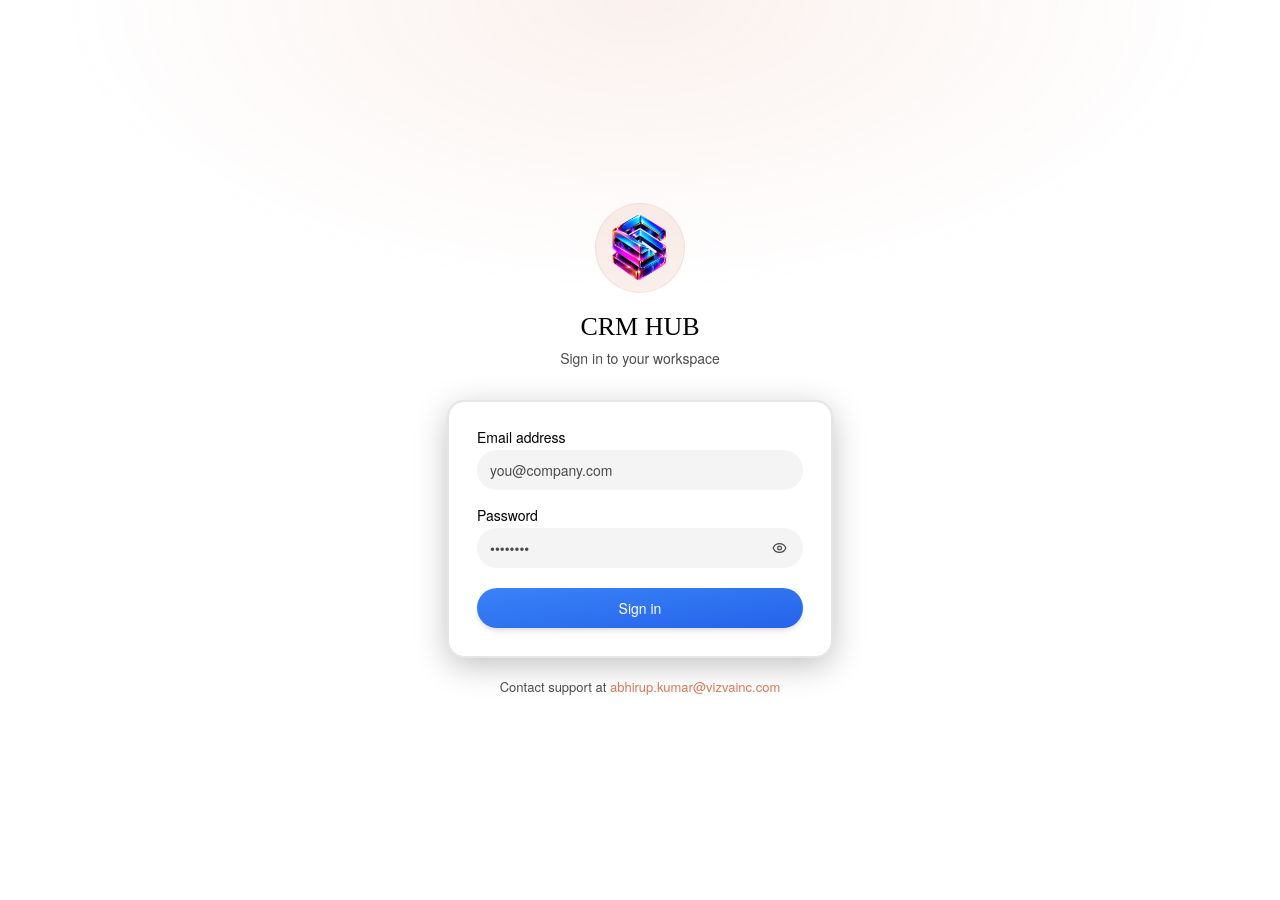
Test: LoginPage - Task 2.5: Login Flow with Session Management › Loading States › should show loading state during login
Type "test@example.com" into the field labelled "Email address".
click(640, 470); type("test@example.com")  # box [477,450,803,490]
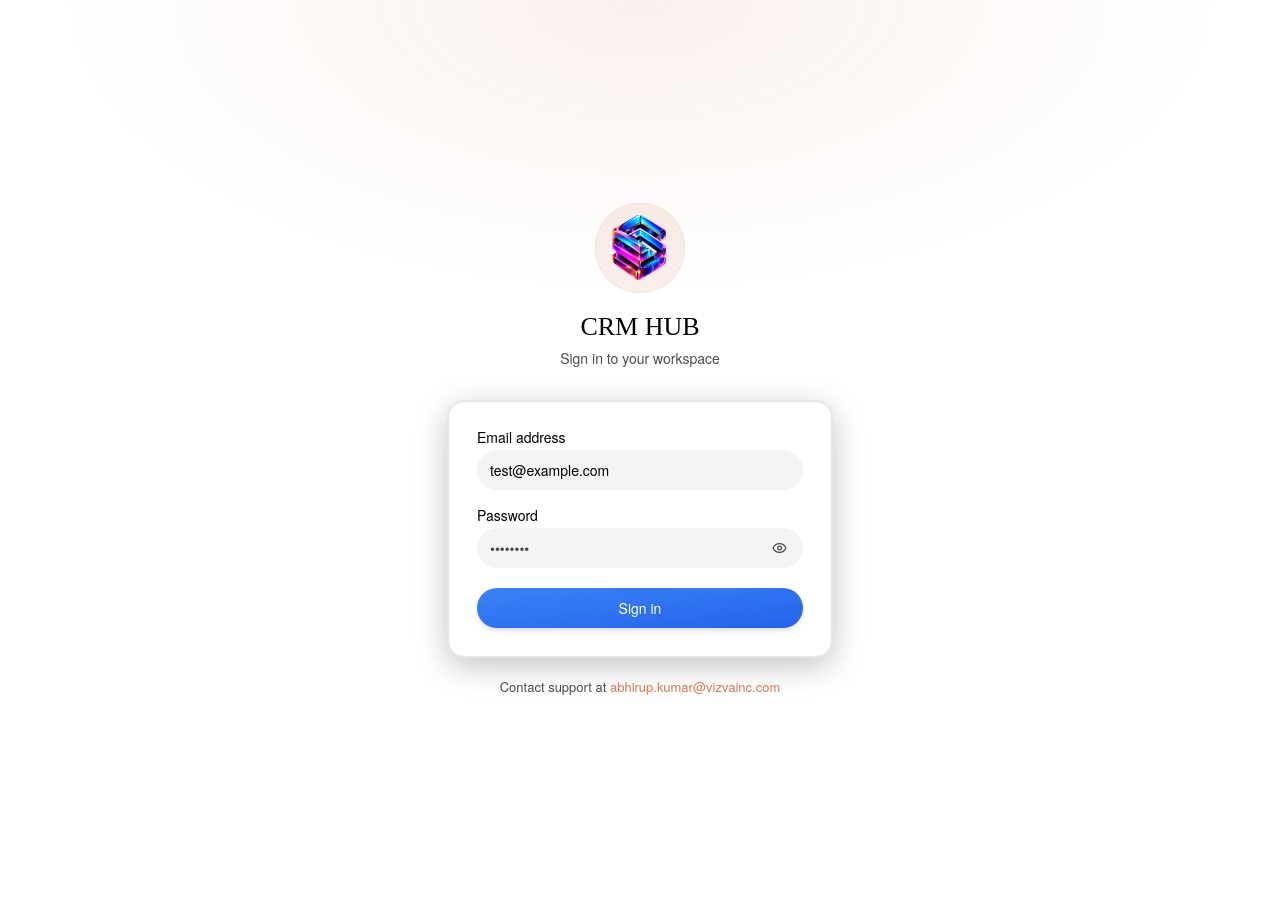
Type "password123" into the password field labelled "Password".
click(640, 548); type("password123")  # box [477,528,803,568]
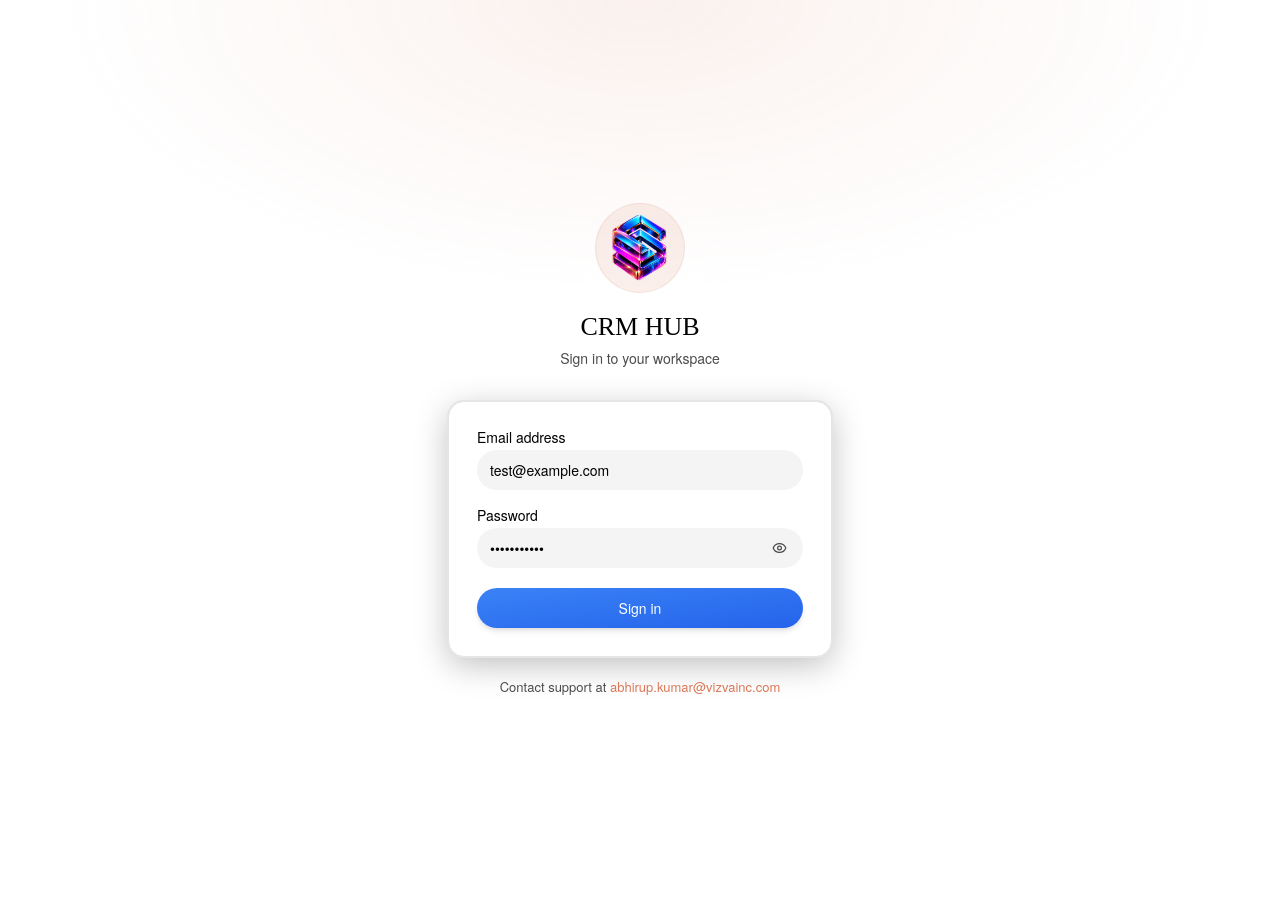
Click the button "Sign in".
click(640, 608)  # box [477,588,803,628]
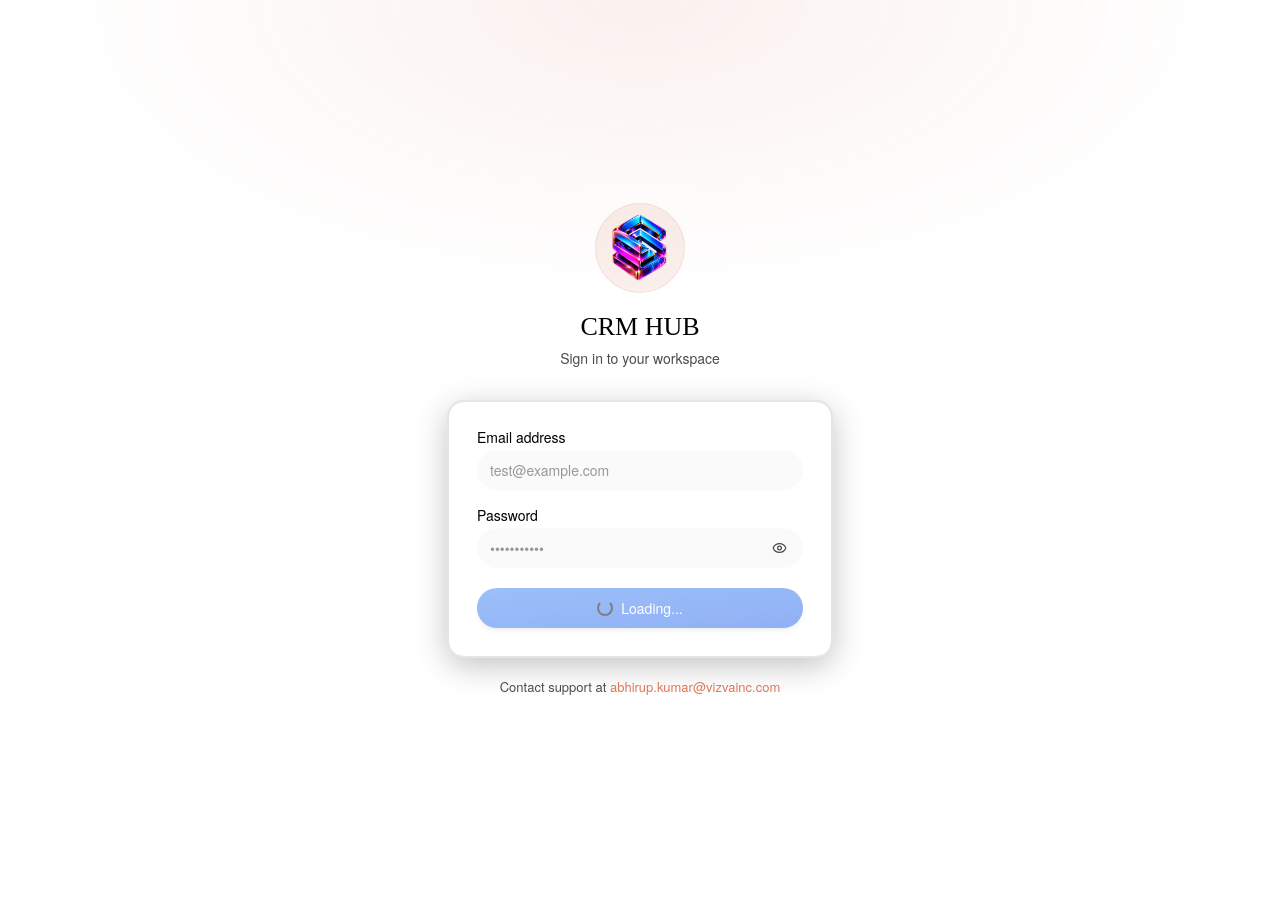
Check: the message is shown, box [597,600,613,616]
Check: the button named "sign in" is disabled, box [477,588,803,628]
